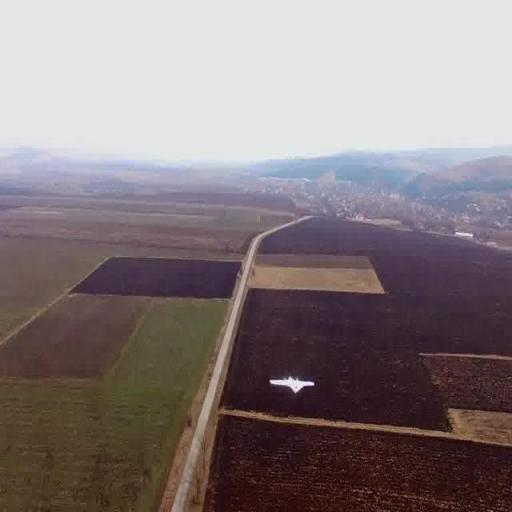uav: (260, 370, 322, 400)
